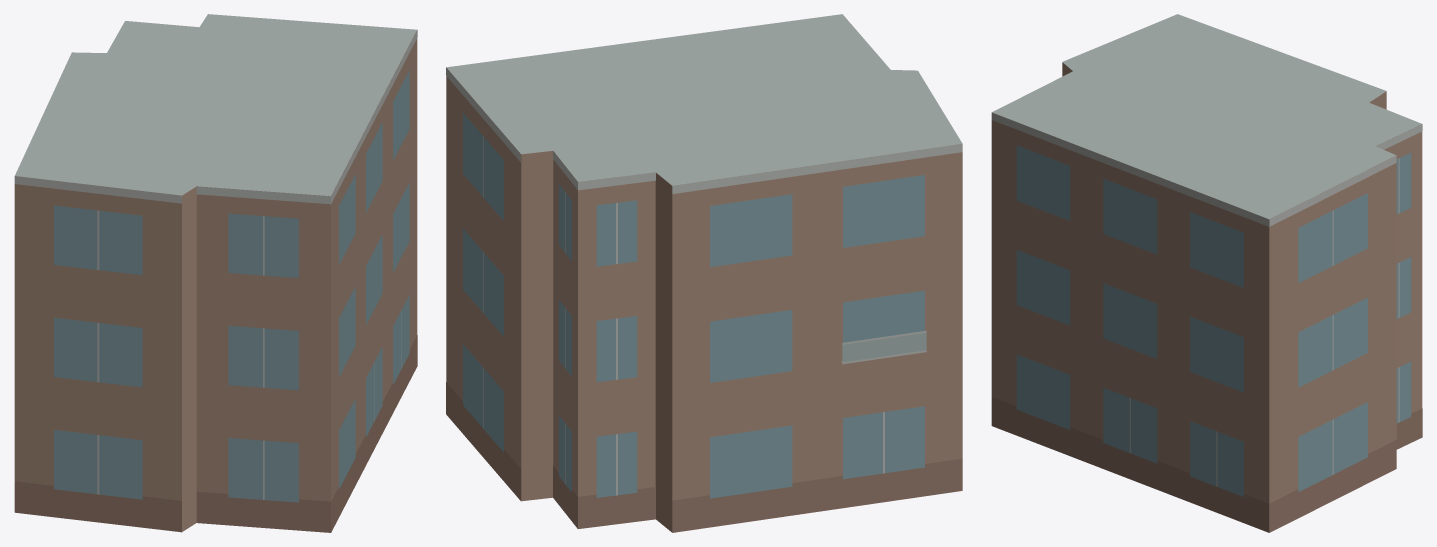
Rendered from survey-upis-32758735.glb.
3 views of the same model, side by side, from view 1: azimuth 30°, elevation 25°; view 2: azimuth 150°, elevation 25°; view 3: azimuth 270°, elevation 25° (orthographic). The views are drawn at different scales.
Visible parts, largest first — view 1: survey-upis-32758735.tmp; view 2: survey-upis-32758735.tmp; view 3: survey-upis-32758735.tmp.
Part boxes in pixels (x1,y1,x2,y2): survey-upis-32758735.tmp: (14, 14, 417, 532); survey-upis-32758735.tmp: (446, 14, 962, 532); survey-upis-32758735.tmp: (991, 14, 1422, 532).
Bounding box in the file's own units: 14.34 × 10.2 × 12.71.
